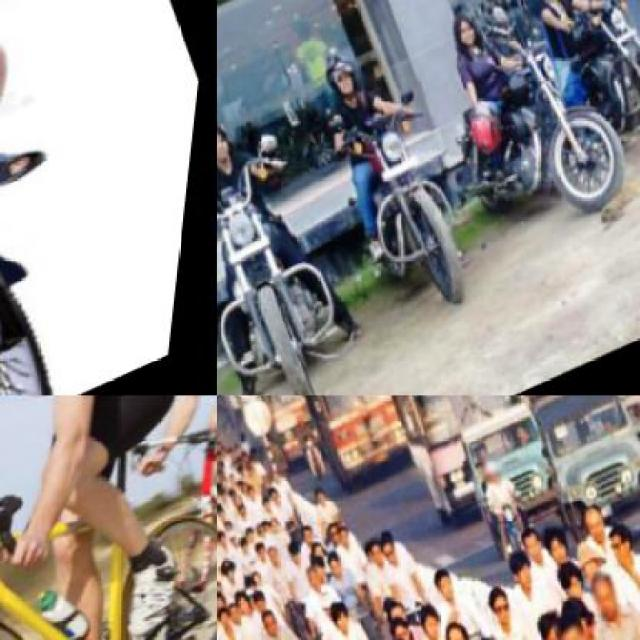With Helmet: (317, 44, 383, 114), (480, 449, 517, 488)
Without Helmet: (588, 566, 638, 631), (444, 0, 496, 58), (217, 108, 258, 175), (554, 610, 612, 638)
